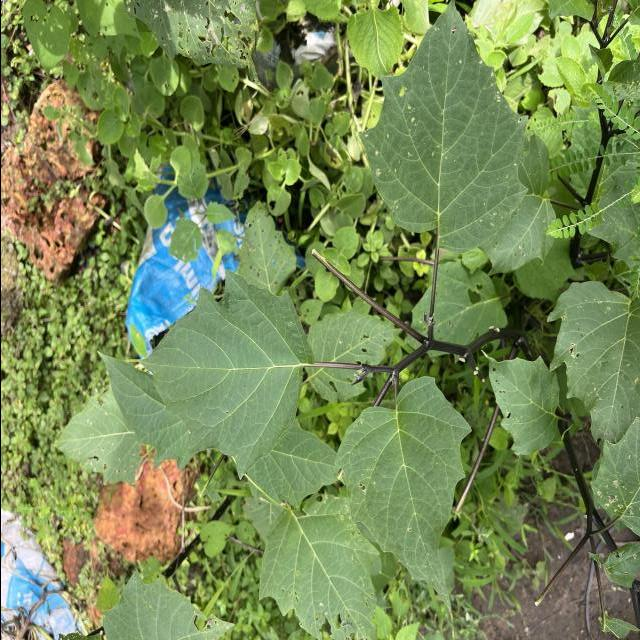Datura metal linn: (356, 0, 532, 256), (132, 267, 316, 482), (330, 373, 473, 616), (476, 346, 560, 460)
